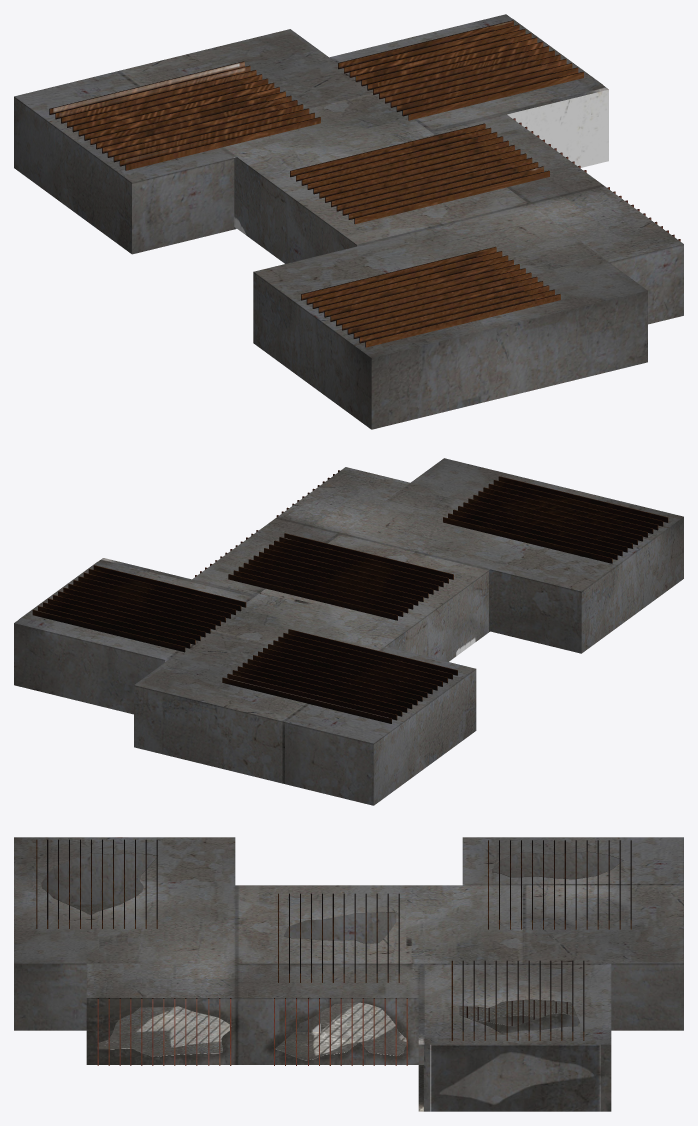
Rendered from destroyed_rooms.glb.
The picture shows the model from 3 angles, top to bottom: view 1: azimuth 30°, elevation 25°; view 2: azimuth 150°, elevation 25°; view 3: azimuth 270°, elevation 25°; orthographic projection. The views are drawn at different scales.
Parts seen in each view (by area): view 1: Object_3, Object_2; view 2: Object_3, Object_2; view 3: Object_2, Object_3.
Boxes of the visible parts, left/top/right/bottom form: Object_3: left=14, top=19, right=683, bottom=429; Object_2: left=14, top=14, right=683, bottom=357; Object_3: left=14, top=470, right=683, bottom=805; Object_2: left=14, top=458, right=683, bottom=743; Object_2: left=14, top=837, right=683, bottom=1044; Object_3: left=14, top=839, right=683, bottom=1111.
Bounding box in the file's own units: 18.2 × 2.98 × 24.84.
Materials: 1 (1 with a texture image).
